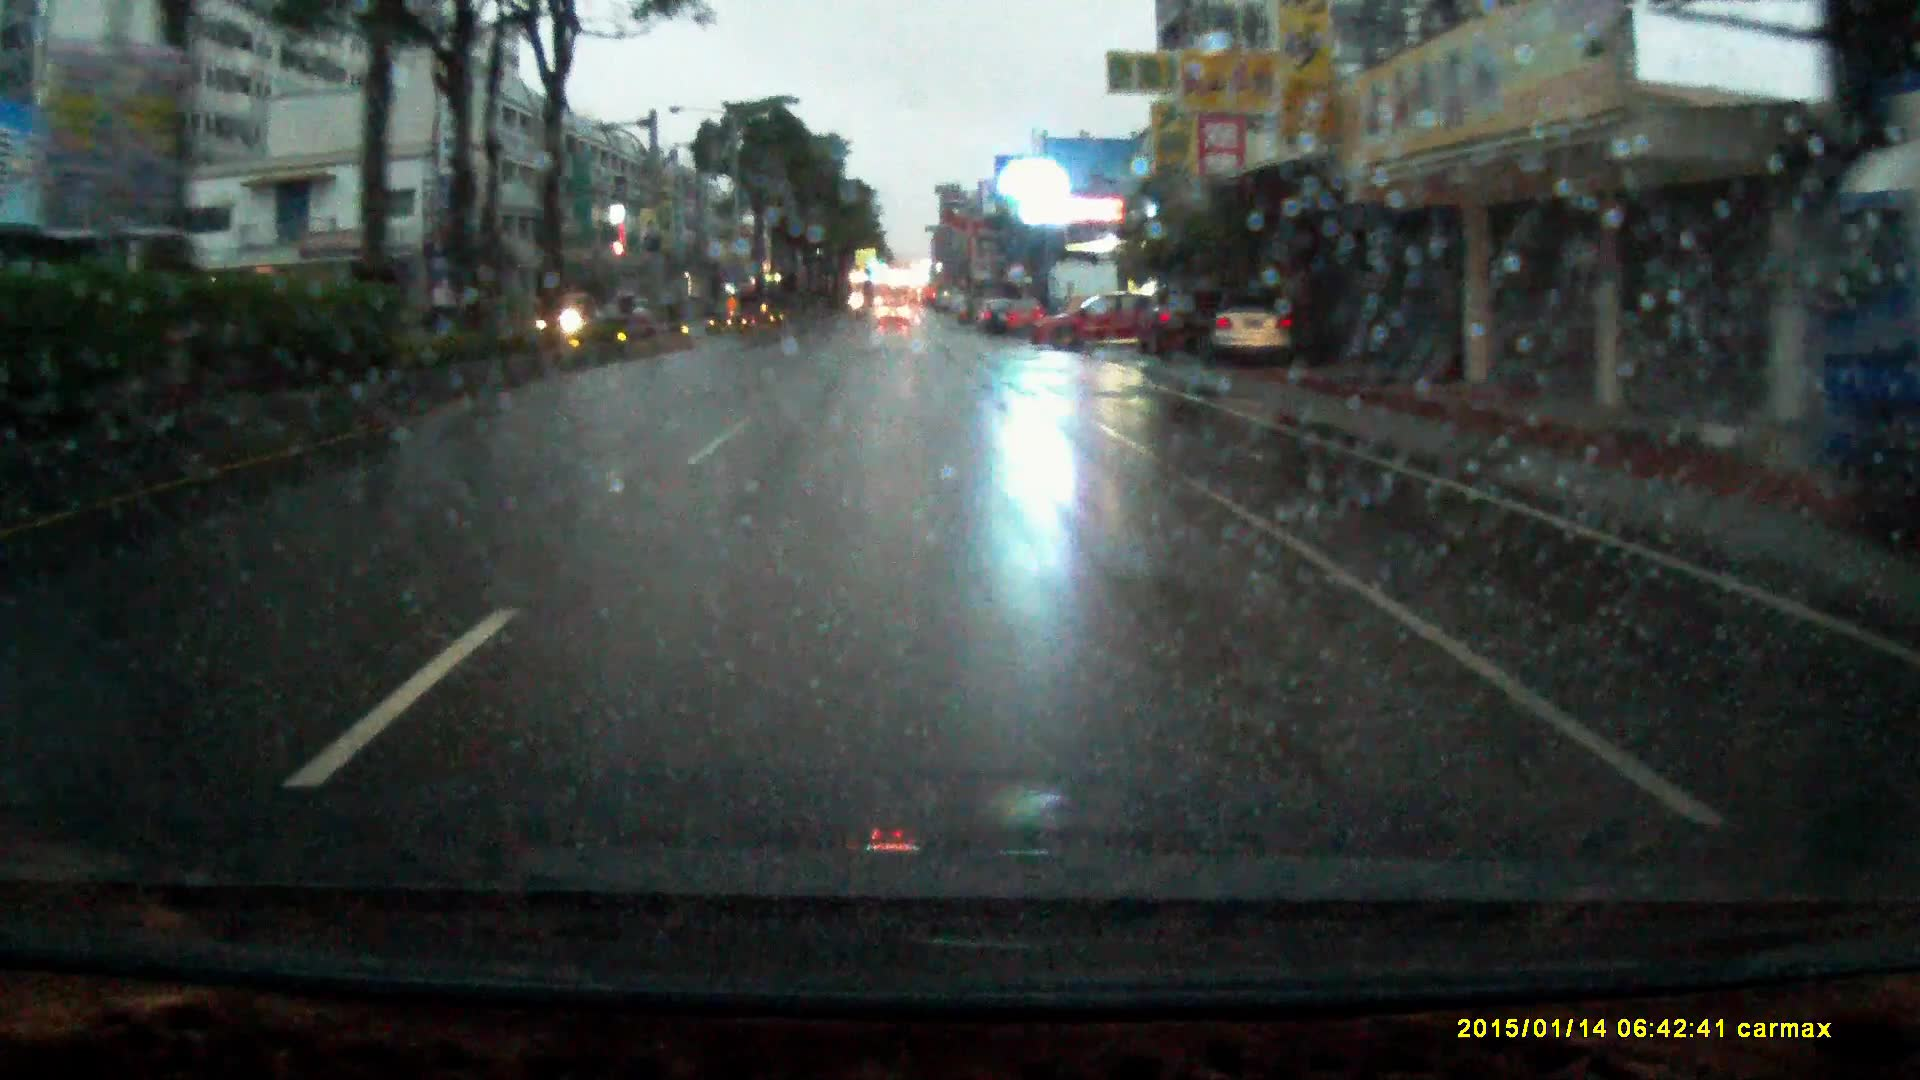vehicle: (1029, 294, 1174, 353), (1207, 293, 1299, 371), (1135, 289, 1218, 360), (526, 295, 599, 338), (1005, 298, 1048, 338), (976, 299, 1018, 336), (878, 301, 913, 328)
